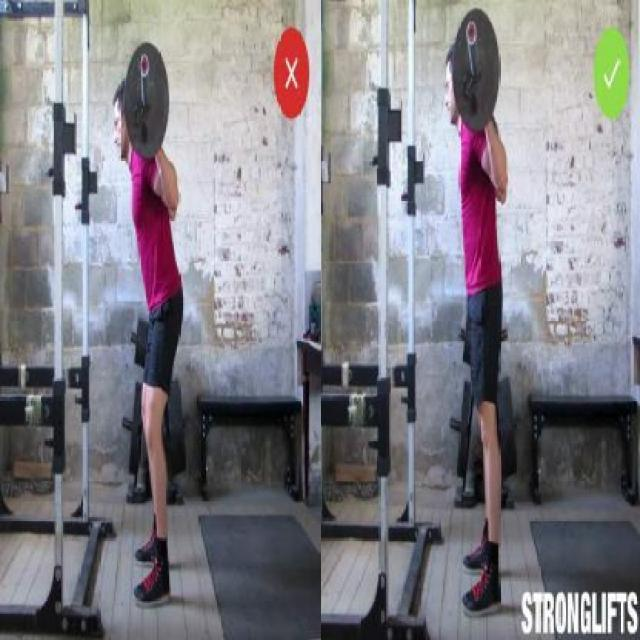Barbell: (465, 20, 478, 48), (140, 52, 148, 80)
